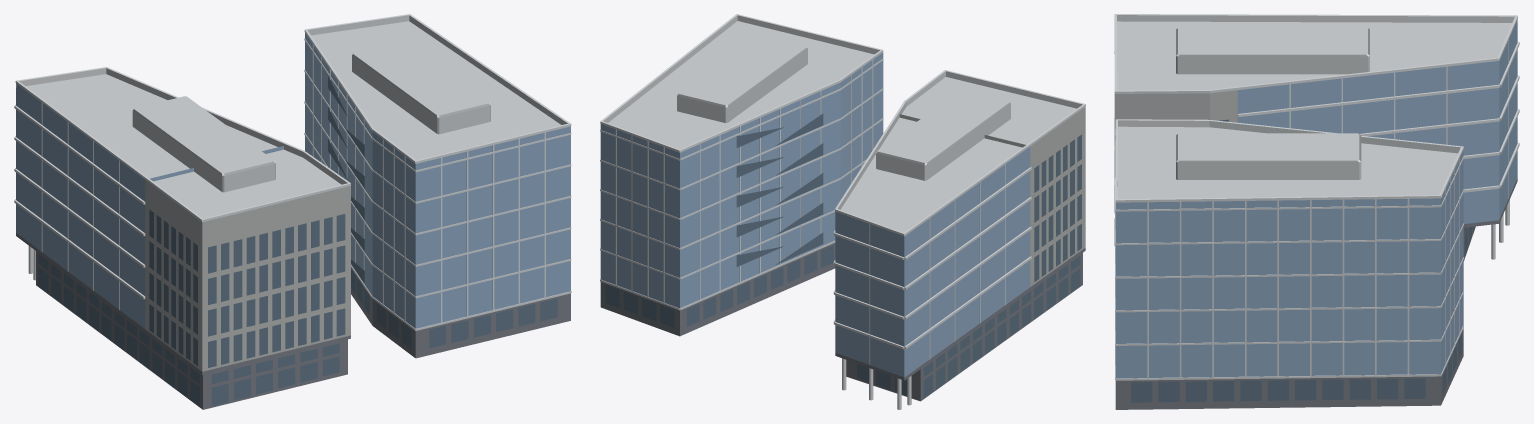
File: clt-vantage-south-end.glb
3 views of the same model, side by side, from view 1: azimuth 30°, elevation 25°; view 2: azimuth 150°, elevation 25°; view 3: azimuth 270°, elevation 25° (orthographic). The views are drawn at different scales.
Parts seen in each view (by area): view 1: Vantage South End; view 2: Vantage South End; view 3: Vantage South End.
Boxes of the visible parts, x1,y1,x2,y2 form: Vantage South End: [14, 14, 571, 409]; Vantage South End: [600, 14, 1085, 409]; Vantage South End: [1114, 14, 1519, 409].
Size of the model in its own units: 103 by 55.7 by 91.92.
